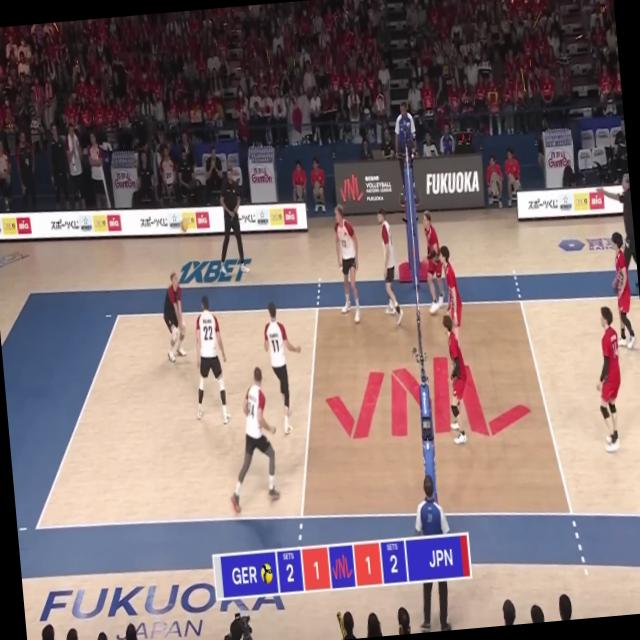referee: (408, 472, 458, 632)
team_one: (218, 364, 282, 516), (260, 304, 308, 439), (189, 296, 232, 431), (330, 205, 364, 326), (375, 206, 405, 326), (158, 272, 188, 366)
team_two: (588, 304, 628, 448), (439, 312, 472, 448), (436, 238, 468, 374), (604, 232, 638, 348), (419, 208, 446, 314)
